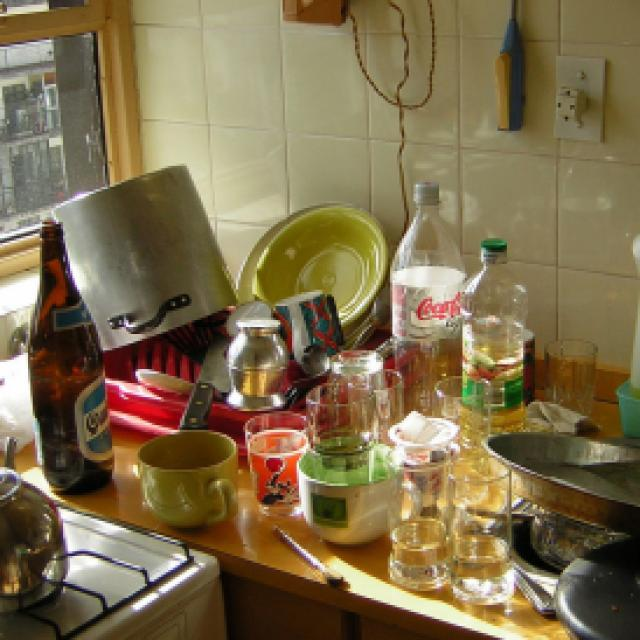scattered-items: (9, 140, 640, 610)
